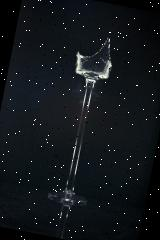glass: (46, 32, 128, 209)
